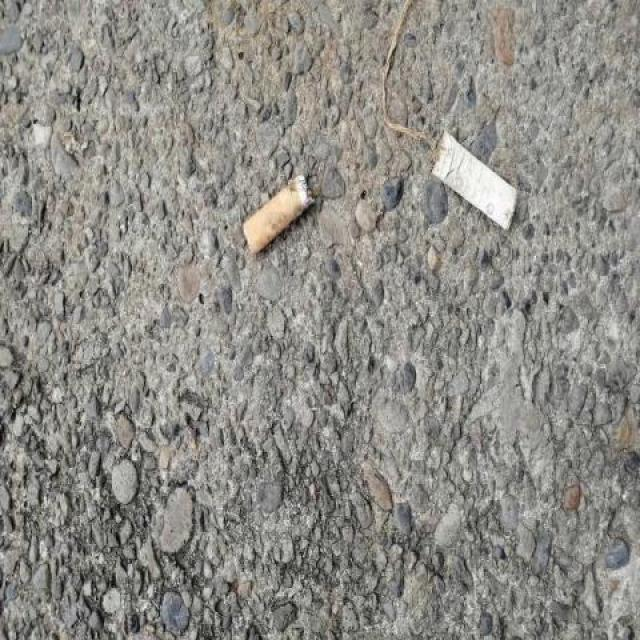non-organic waste: (424, 125, 523, 234), (239, 166, 317, 259)
